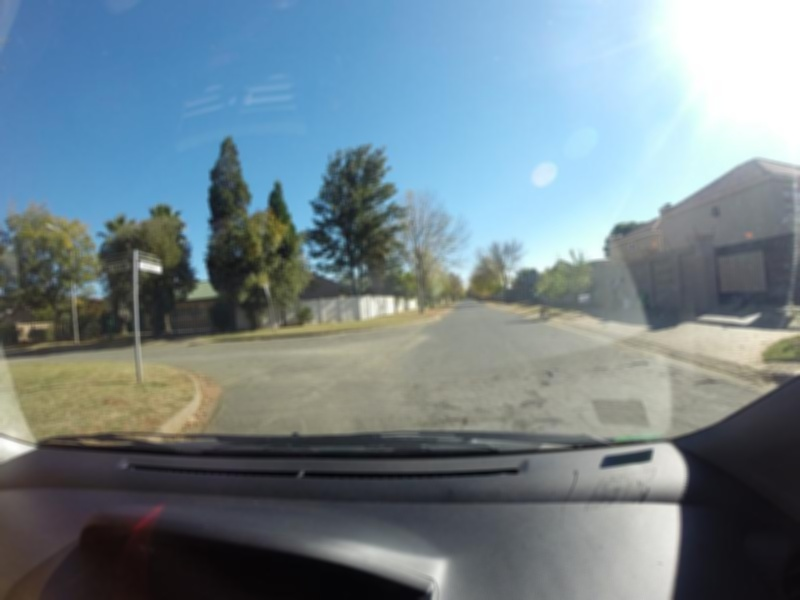pothole: (520, 394, 548, 407), (438, 416, 472, 425), (622, 359, 652, 366), (535, 370, 552, 377), (691, 378, 718, 382)
